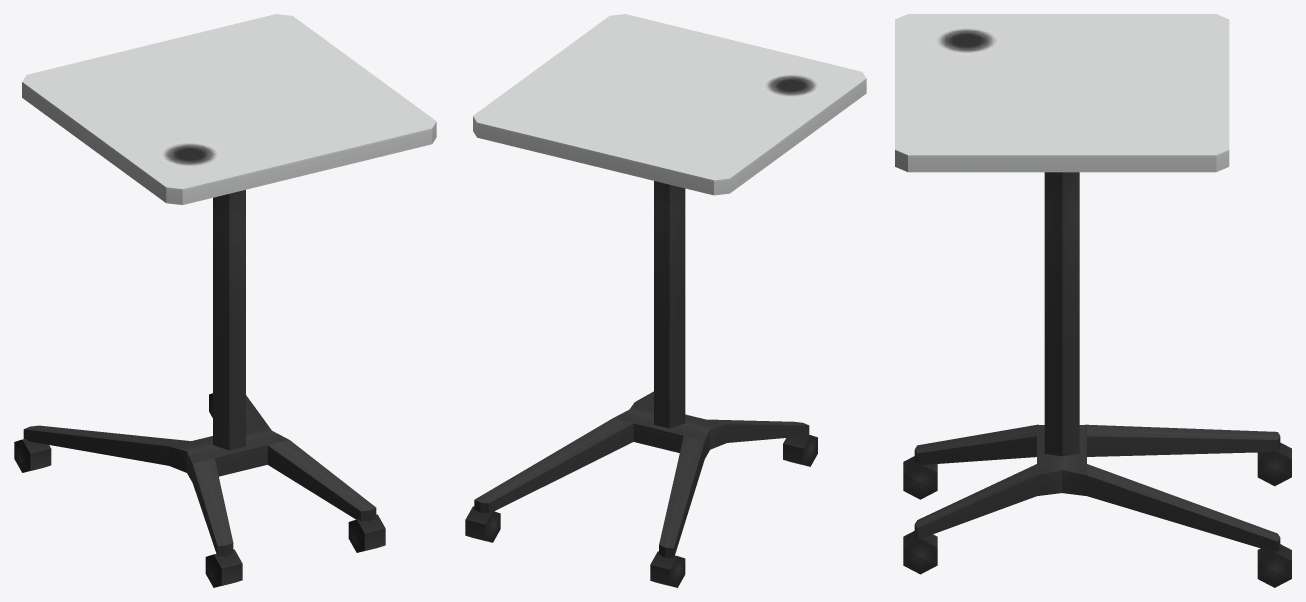
File: 方形桌.obj
3 views of the same model, side by side, from view 1: azimuth 30°, elevation 25°; view 2: azimuth 150°, elevation 25°; view 3: azimuth 270°, elevation 25° (orthographic). The views are drawn at different scales.
Bounding box in the file's own units: 50.01 × 73.83 × 59.39.
